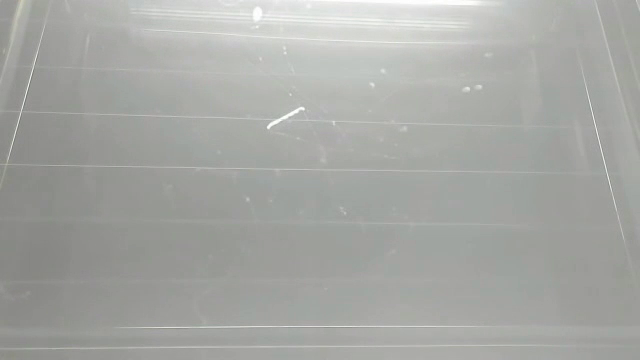alpha: (262, 104, 310, 135), (249, 4, 268, 27), (459, 80, 485, 96)
